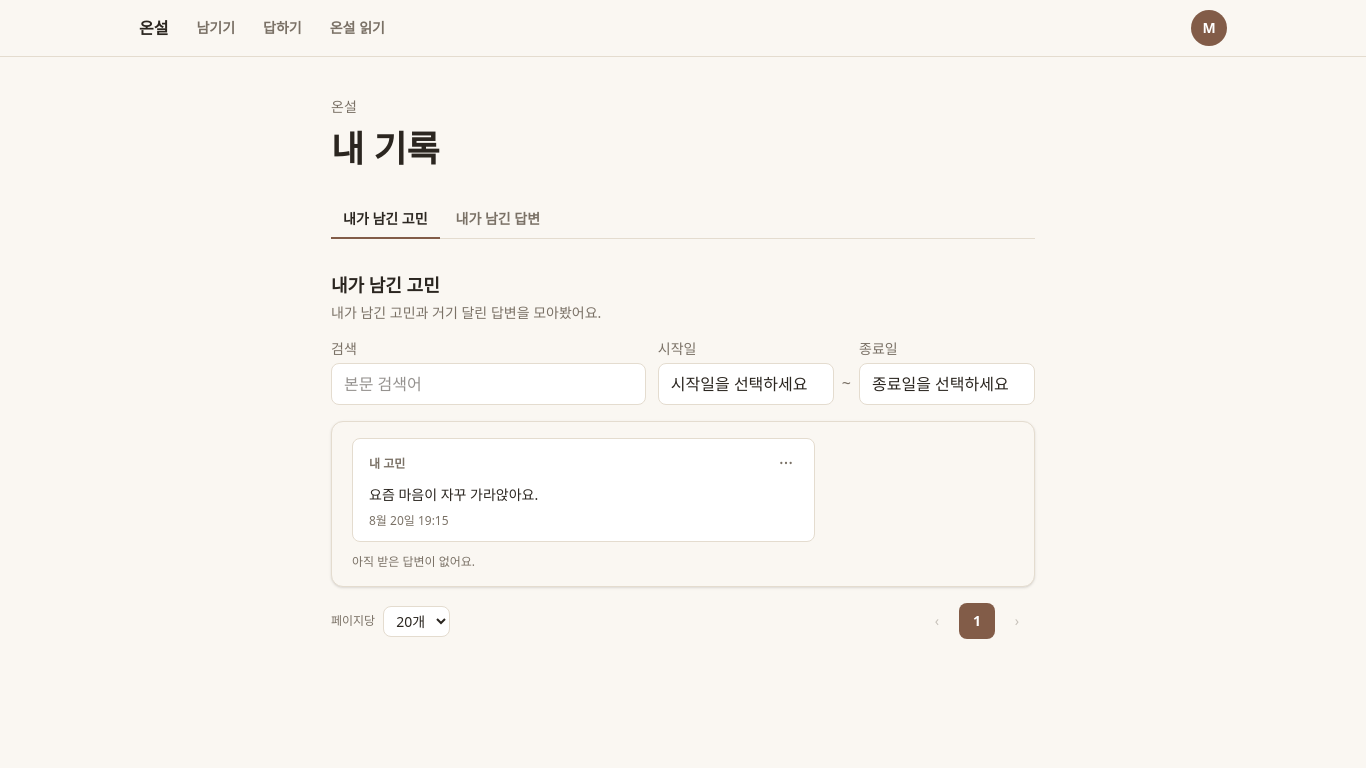
it: RecordsPage › switching tabs shows one section's content at a time
The width and height of the screenshot is (1366, 768).
Expected: the text "요즘 마음이 자꾸 가라앉아요." is shown, left=369, top=485, right=538, bottom=504
Expected: the text "오늘도 무사히 지나갔어요." is not shown
Click the tab "내가 남긴 답변" at [498, 220], box left=444, top=201, right=552, bottom=239
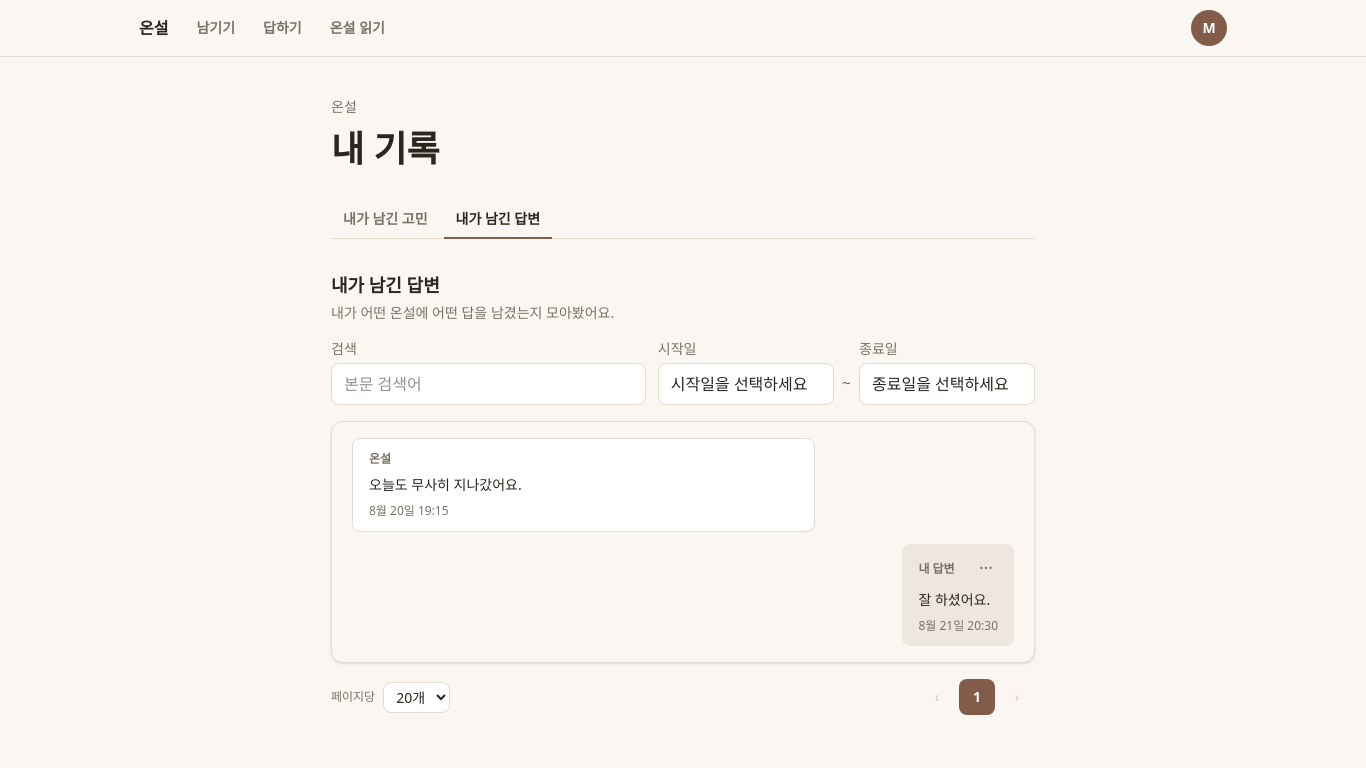
Expected: the text "오늘도 무사히 지나갔어요." is shown, left=369, top=475, right=522, bottom=494
Expected: the text "요즘 마음이 자꾸 가라앉아요." is gone
